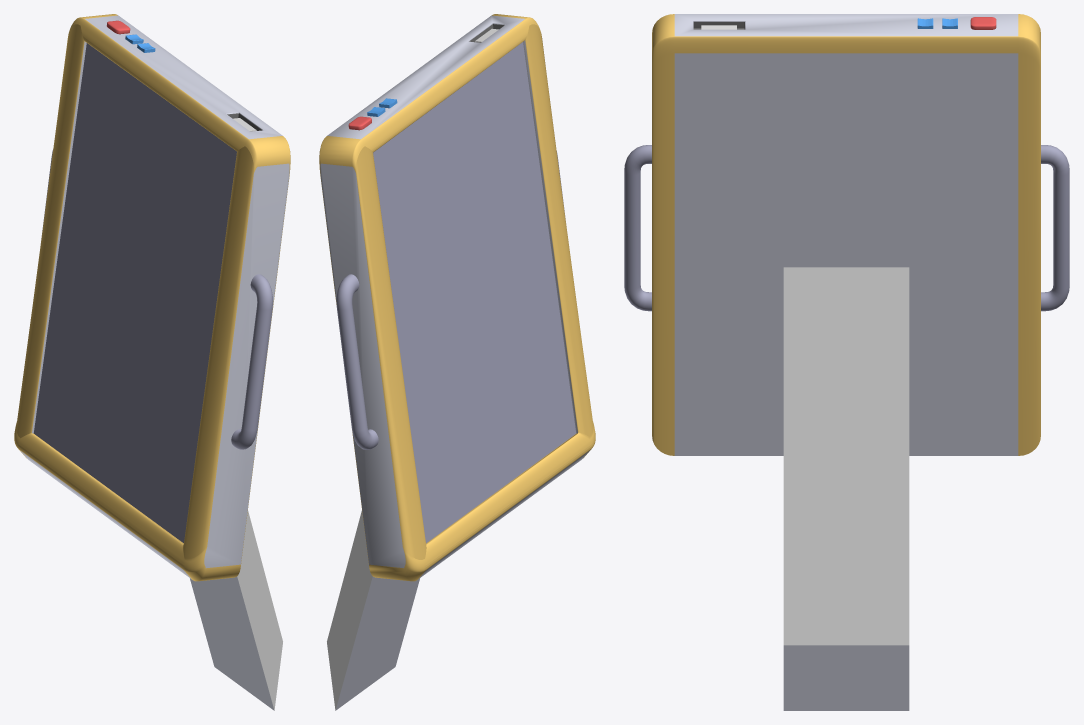
Rendered from One-click_terminal_3.fbx.
3 renders of one model, left to right at view 1: azimuth 30°, elevation 25°; view 2: azimuth 150°, elevation 25°; view 3: azimuth 270°, elevation 25°, orthographic. The views are drawn at different scales.
Parts seen in each view (by area): view 1: Cube.001, Plane; view 2: Cube.001, Plane.001; view 3: Cube.001, Plane.001, Plane.
Part boxes in pixels (x1,y1,x2,y2): Cube.001: (14,14,290,710); Plane: (231,274,272,449); Cube.001: (319,14,595,710); Plane.001: (336,274,378,449); Cube.001: (652,14,1040,710); Plane.001: (1041,145,1069,311); Plane: (624,145,651,311).
Size of the model in its own units: 186 by 737 by 451.
